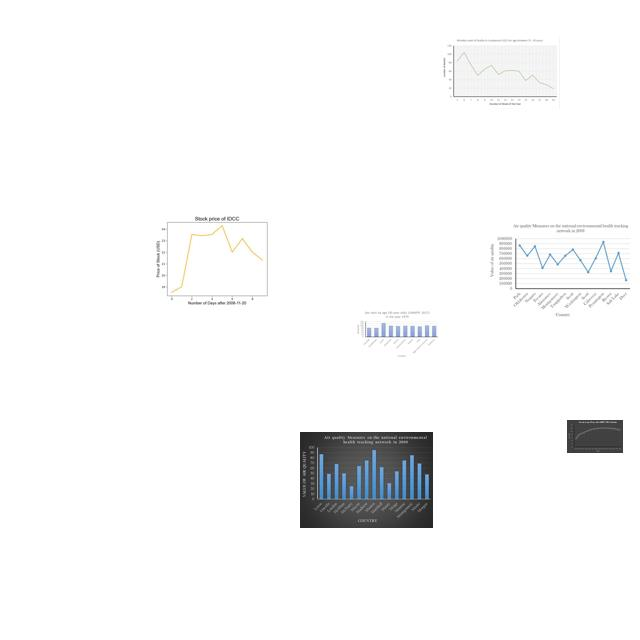Graph: (488, 222, 633, 319), (300, 432, 433, 528), (151, 210, 280, 307), (440, 37, 560, 109), (355, 310, 439, 358), (567, 420, 623, 453)
